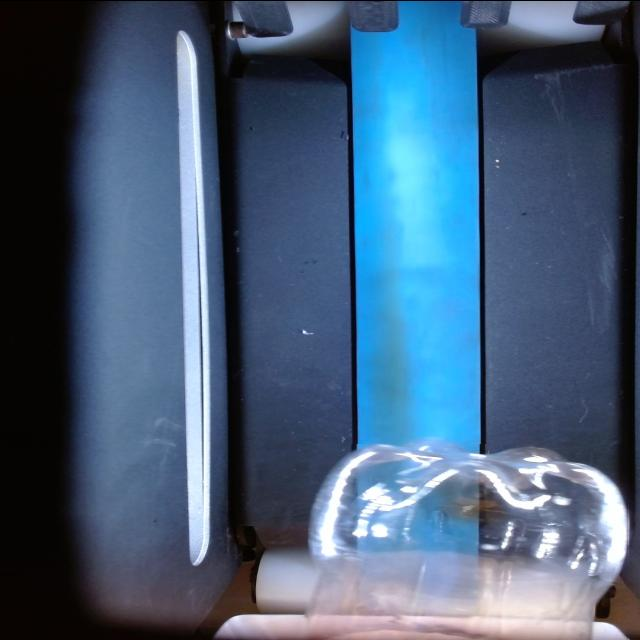bottom: (309, 443, 628, 640)
